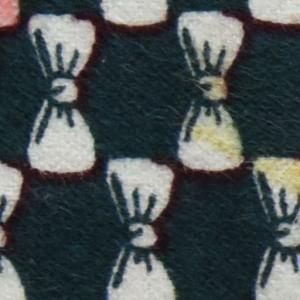Stain: (190, 73, 300, 197), (1, 1, 31, 42)
